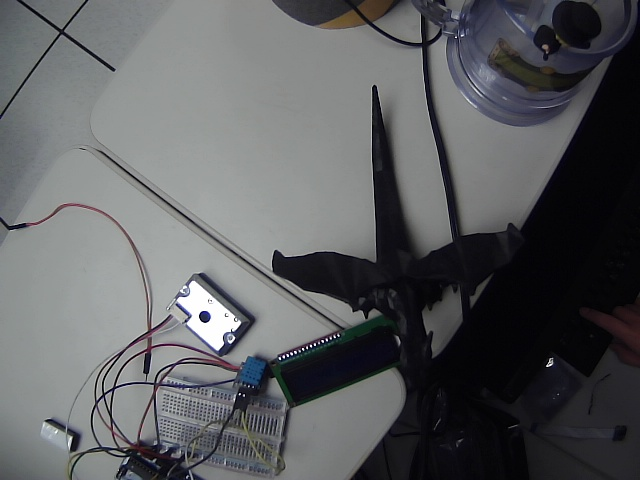charizard: (254, 73, 535, 403)
